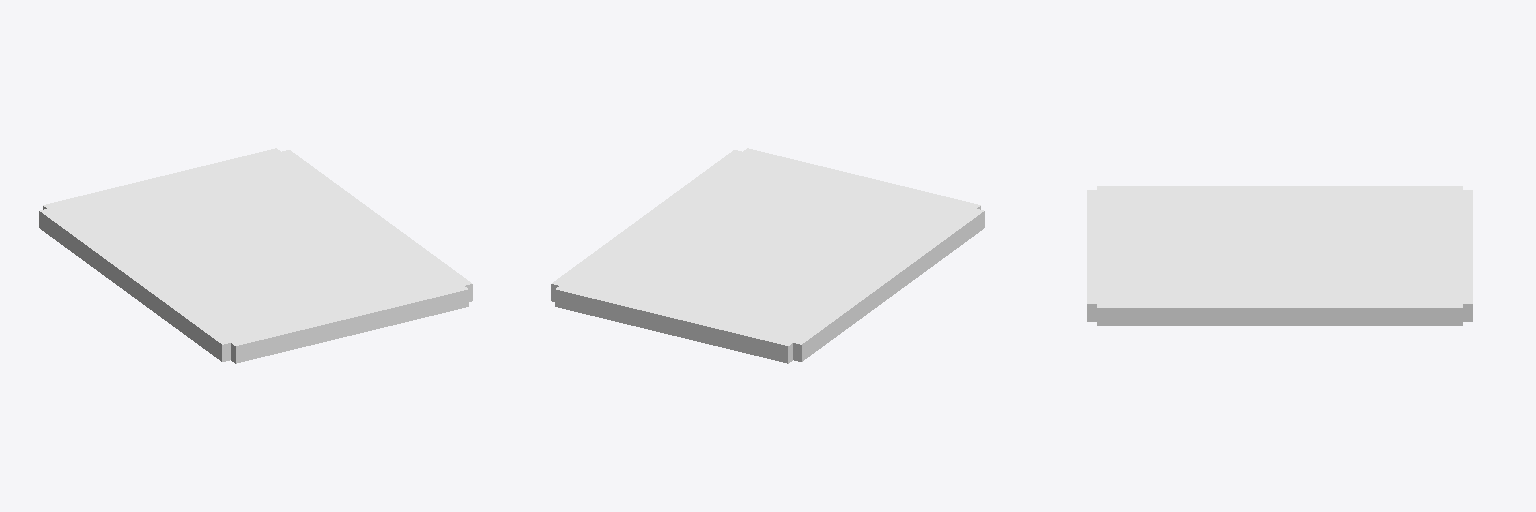
File: HellFire-0.obj
3 views of the same model, side by side, from view 1: azimuth 30°, elevation 25°; view 2: azimuth 150°, elevation 25°; view 3: azimuth 270°, elevation 25° (orthographic).
Parts seen in each view (by area): view 1: object 1; view 2: object 1; view 3: object 1.
Boxes of the visible parts, x1=… form: object 1: x1=39, y1=148, x2=472, y2=363; object 1: x1=551, y1=148, x2=984, y2=363; object 1: x1=1087, y1=186, x2=1472, y2=325.
Bounding box in the file's own units: 3 × 0.2 × 4.